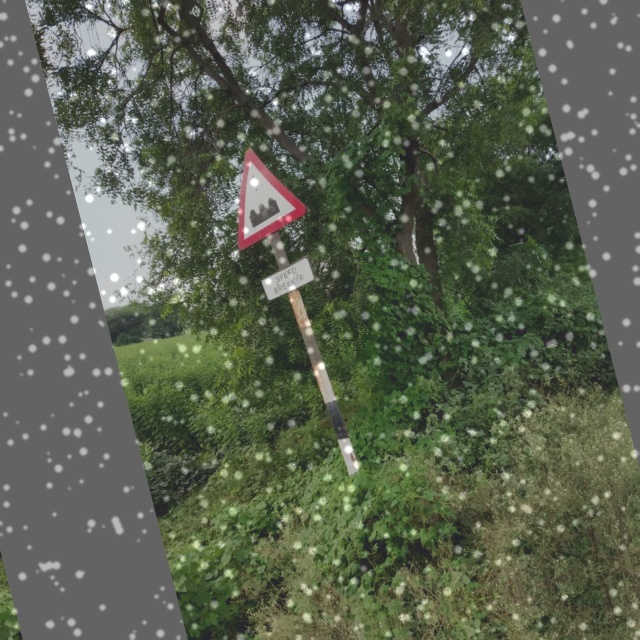Hump_or_Rough_Road: (213, 136, 315, 248)
